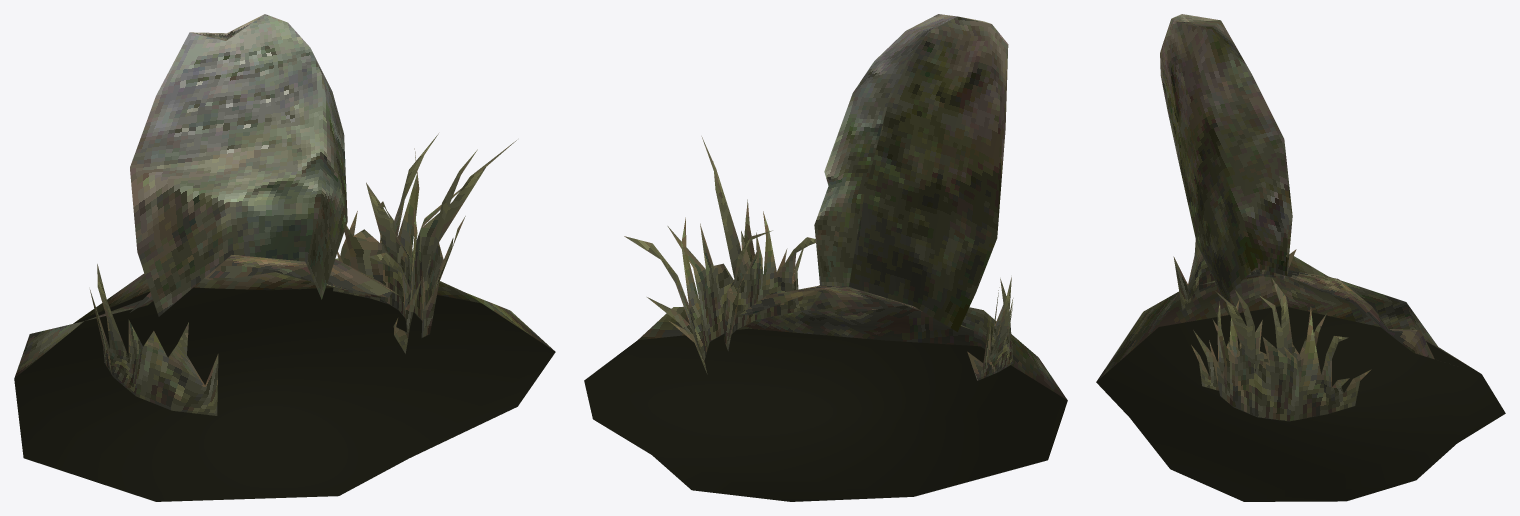
The model's file is ps2_save-icons_wizardrytalesoftheforsakenland.glb.
The picture shows the model from 3 angles, left to right: view 1: azimuth 30°, elevation 25°; view 2: azimuth 150°, elevation 25°; view 3: azimuth 270°, elevation 25°; orthographic projection. The views are drawn at different scales.
Visible parts, largest first — view 1: icon1.ico; view 2: icon1.ico; view 3: icon1.ico.
Part boxes in pixels (x1,y1,x2,y2): icon1.ico: (14, 14, 555, 501); icon1.ico: (584, 14, 1067, 501); icon1.ico: (1096, 14, 1505, 501).
Size of the model in its own units: 4.29 by 3.55 by 3.79.
1 material, 1 textured.
